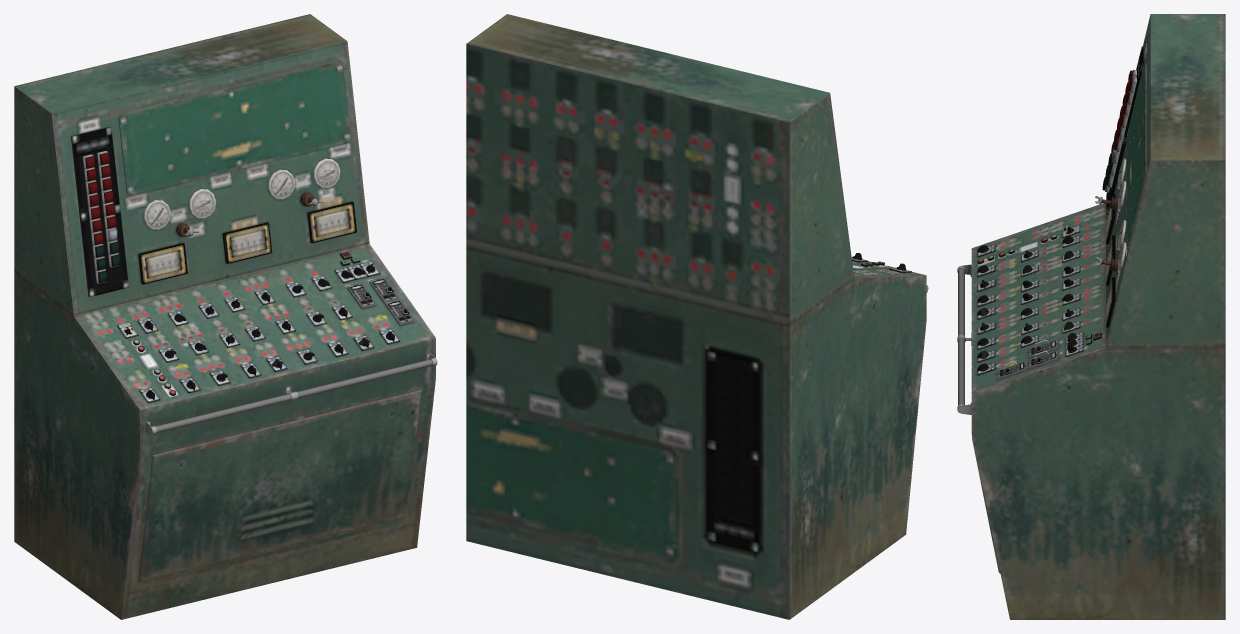
The model's file is sm22_015_switchboard05b.fbx.
The picture shows the model from 3 angles, left to right: view 1: azimuth 30°, elevation 25°; view 2: azimuth 150°, elevation 25°; view 3: azimuth 270°, elevation 25°; orthographic projection. The views are drawn at different scales.
Visible parts, largest first — view 1: LOD_1_Group_0_Sub_1__sm22_015_Switchboard05B_A_Mat, LOD_1_Group_1_Sub_1__sm22_015_Switchboard05B_A_Mat, LOD_1_Group_10_Sub_1__sm22_015_Switchboard05B_A_Mat, LOD_1_Group_12_Sub_1__sm22_015_Switchboard05B_A_Mat, LOD_1_Group_2_Sub_1__sm22_015_Switchboard05B_A_Mat, LOD_1_Group_8_Sub_1__sm22_015_Switchboard05B_A_Mat, LOD_1_Group_9_Sub_1__sm22_015_Switchboard05B_A_Mat, LOD_1_Group_11_Sub_1__sm22_015_Switchboard05B_A_Mat, LOD_1_Group_7_Sub_1__sm22_015_Switchboard05B_A_Mat, LOD_1_Group_3_Sub_1__sm22_015_Switchboard05B_A_Mat, LOD_1_Group_5_Sub_1__sm22_015_Switchboard05B_A_Mat; view 2: LOD_1_Group_0_Sub_1__sm22_015_Switchboard05B_A_Mat; view 3: LOD_1_Group_0_Sub_1__sm22_015_Switchboard05B_A_Mat, LOD_1_Group_2_Sub_1__sm22_015_Switchboard05B_A_Mat, LOD_1_Group_10_Sub_1__sm22_015_Switchboard05B_A_Mat, LOD_1_Group_3_Sub_1__sm22_015_Switchboard05B_A_Mat, LOD_1_Group_9_Sub_1__sm22_015_Switchboard05B_A_Mat, LOD_1_Group_5_Sub_1__sm22_015_Switchboard05B_A_Mat, LOD_1_Group_7_Sub_1__sm22_015_Switchboard05B_A_Mat, LOD_1_Group_12_Sub_1__sm22_015_Switchboard05B_A_Mat, LOD_1_Group_8_Sub_1__sm22_015_Switchboard05B_A_Mat, LOD_1_Group_11_Sub_1__sm22_015_Switchboard05B_A_Mat.
Part boxes in pixels (x1,y1,x2,y2): LOD_1_Group_0_Sub_1__sm22_015_Switchboard05B_A_Mat: (14,14,435,619); LOD_1_Group_1_Sub_1__sm22_015_Switchboard05B_A_Mat: (138,390,421,581); LOD_1_Group_10_Sub_1__sm22_015_Switchboard05B_A_Mat: (118,61,350,195); LOD_1_Group_12_Sub_1__sm22_015_Switchboard05B_A_Mat: (138,201,356,284); LOD_1_Group_2_Sub_1__sm22_015_Switchboard05B_A_Mat: (117,261,399,403); LOD_1_Group_8_Sub_1__sm22_015_Switchboard05B_A_Mat: (71,127,128,296); LOD_1_Group_9_Sub_1__sm22_015_Switchboard05B_A_Mat: (82,151,120,283); LOD_1_Group_11_Sub_1__sm22_015_Switchboard05B_A_Mat: (143,158,340,230); LOD_1_Group_7_Sub_1__sm22_015_Switchboard05B_A_Mat: (155,359,432,432); LOD_1_Group_3_Sub_1__sm22_015_Switchboard05B_A_Mat: (124,264,394,399); LOD_1_Group_5_Sub_1__sm22_015_Switchboard05B_A_Mat: (346,277,414,325); LOD_1_Group_0_Sub_1__sm22_015_Switchboard05B_A_Mat: (466,14,926,619); LOD_1_Group_0_Sub_1__sm22_015_Switchboard05B_A_Mat: (971,14,1225,619); LOD_1_Group_2_Sub_1__sm22_015_Switchboard05B_A_Mat: (977,225,1083,375); LOD_1_Group_10_Sub_1__sm22_015_Switchboard05B_A_Mat: (1126,63,1146,246); LOD_1_Group_3_Sub_1__sm22_015_Switchboard05B_A_Mat: (977,226,1077,371); LOD_1_Group_9_Sub_1__sm22_015_Switchboard05B_A_Mat: (1102,69,1136,192); LOD_1_Group_5_Sub_1__sm22_015_Switchboard05B_A_Mat: (996,339,1059,380); LOD_1_Group_7_Sub_1__sm22_015_Switchboard05B_A_Mat: (958,268,964,405); LOD_1_Group_12_Sub_1__sm22_015_Switchboard05B_A_Mat: (1106,194,1115,327); LOD_1_Group_8_Sub_1__sm22_015_Switchboard05B_A_Mat: (1106,46,1144,214); LOD_1_Group_11_Sub_1__sm22_015_Switchboard05B_A_Mat: (1117,158,1126,273).
Bounding box in the file's own units: 0.9 × 1.32 × 0.7004.
